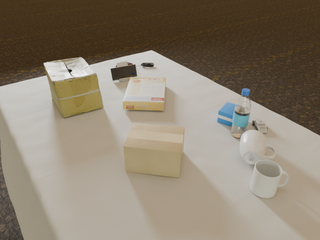bottle: (231, 89, 251, 138)
box: (44, 58, 103, 118), (124, 123, 184, 178), (123, 77, 166, 111), (217, 102, 235, 126)
cup: (250, 159, 289, 198), (240, 130, 276, 164)
phone: (110, 64, 137, 81)
toy_car: (252, 119, 267, 133)
